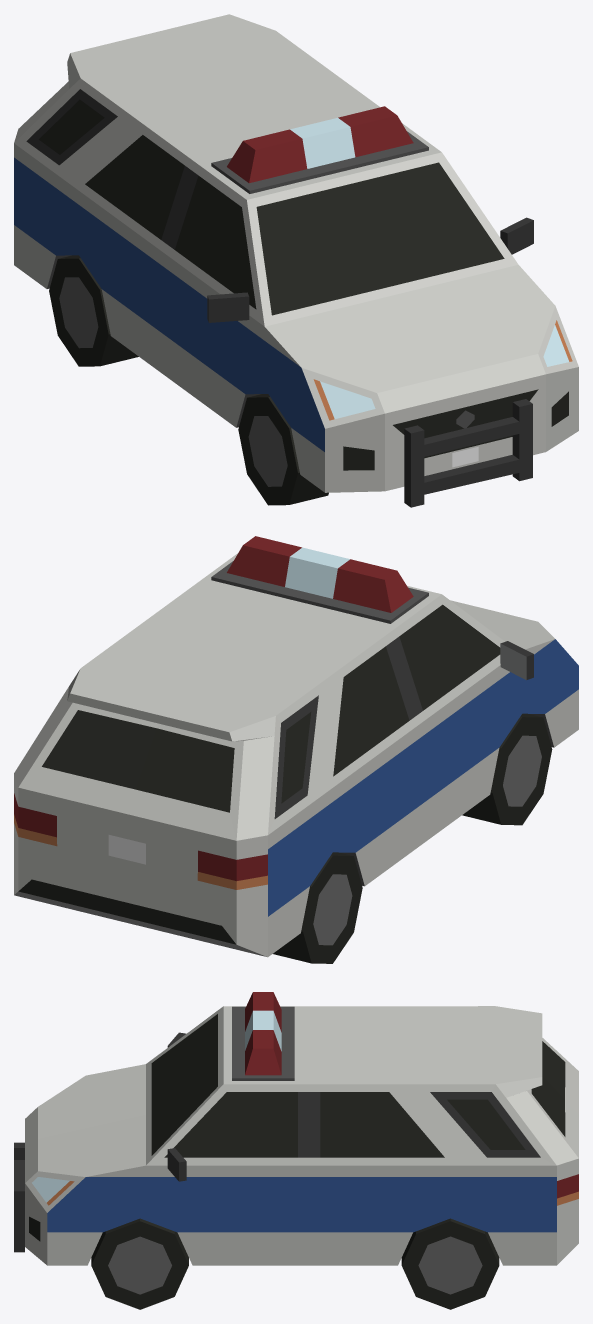
The model's file is Veh_Police_SUV_01.obj.
3 renders of one model, top to bottom at view 1: azimuth 30°, elevation 25°; view 2: azimuth 150°, elevation 25°; view 3: azimuth 270°, elevation 25°, orthographic. The views are drawn at different scales.
Size of the model in its own units: 1.33 by 1.14 by 2.45.
